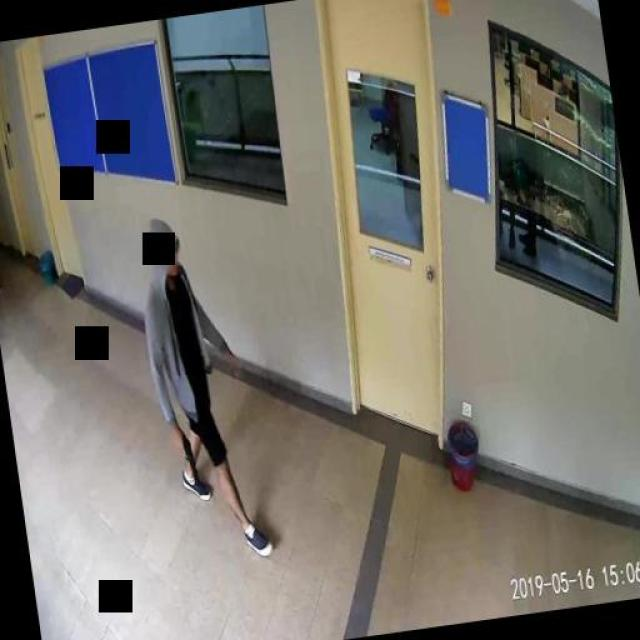gun: (174, 428, 198, 488)
